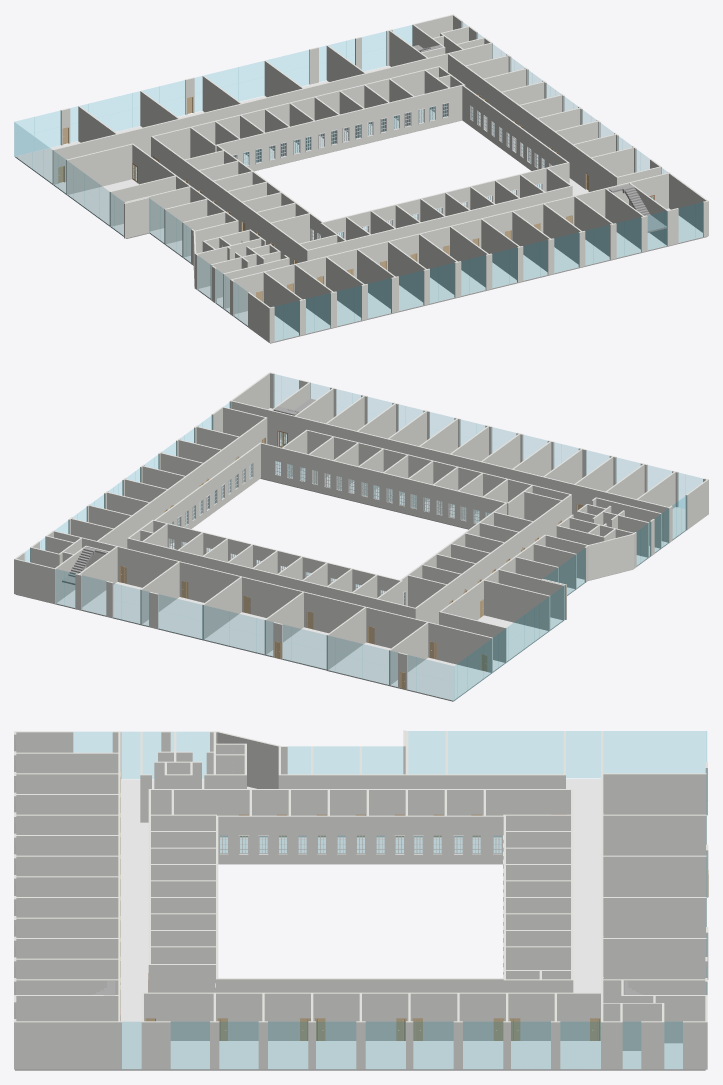
File: 4L墙体.gltf
3 renders of one model, top to bottom at view 1: azimuth 30°, elevation 25°; view 2: azimuth 150°, elevation 25°; view 3: azimuth 270°, elevation 25°, orthographic. The views are drawn at different scales.
Visible parts, largest first — view 1: 常规 - 200mm [733617], 常规 - 200mm [476818], 常规 - 200mm [466333], 常规 140 - 20+120 [759509], 常规 - 200mm [484412], 常规 - 200mm [487103], 常规 - 200mm [484968], 常规 140 - 20+120 [762532], 常规 - 200mm [485400], 常规 - 200mm [733270], 常规 - 200mm [732928], 常规 - 200mm [470344] (+46 smaller); view 2: 常规 - 200mm [466333], 常规 - 200mm [732928], 常规 140 - 20+120 [760655], 常规 140 - 20+120 [759509], 常规 - 200mm [476818], 常规 - 200mm [484968], 常规 - 200mm [487103], 常规 - 200mm [484412], 常规 - 200mm [485400], 常规 - 200mm [733617], 常规 - 200mm [733270], 常规 - 200mm [493552] (+46 smaller); view 3: 常规 - 200mm [487103], 常规 - 200mm [732215], 常规 - 200mm [484968], 常规 140 - 20+120 [761496], 常规 140 - 20+120 [760655], 常规 140 - 20+120 [759509], 常规 - 200mm [750346], 常规 - 200mm [474949], 常规 - 200mm [494692], 常规 - 200mm [494536], 常规 140 - 20+120 [762532], 常规 - 200mm [495010] (+53 smaller).
Boxes of the visible parts, box(x1,y1,x2,y2) form: 常规 - 200mm [733617]: box(217, 85, 462, 170); 常规 - 200mm [476818]: box(232, 172, 668, 313); 常规 - 200mm [466333]: box(52, 43, 491, 184); 常规 140 - 20+120 [759509]: box(15, 126, 396, 343); 常规 - 200mm [484412]: box(151, 66, 438, 161); 常规 - 200mm [487103]: box(448, 53, 617, 191); 常规 - 200mm [484968]: box(152, 136, 308, 264); 常规 140 - 20+120 [762532]: box(396, 232, 643, 312); 常规 - 200mm [485400]: box(308, 185, 572, 260); 常规 - 200mm [733270]: box(462, 85, 567, 170); 常规 - 200mm [732928]: box(323, 162, 569, 239); 常规 - 200mm [470344]: box(66, 144, 132, 194); 常规 - 200mm [466333]: box(54, 531, 492, 672); 常规 - 200mm [732928]: box(260, 442, 505, 528); 常规 140 - 20+120 [760655]: box(16, 582, 328, 670); 常规 140 - 20+120 [759509]: box(326, 507, 686, 701); 常规 - 200mm [476818]: box(231, 400, 668, 542); 常规 - 200mm [484968]: box(415, 494, 571, 624); 常规 - 200mm [487103]: box(97, 418, 266, 548); 常规 - 200mm [484412]: box(128, 538, 416, 618); 常规 - 200mm [485400]: box(306, 429, 569, 501); 常规 - 200mm [733617]: box(155, 520, 400, 597); 常规 - 200mm [733270]: box(155, 443, 260, 544); 常规 - 200mm [493552]: box(484, 580, 550, 631); 常规 - 200mm [487103]: box(144, 992, 600, 1040); 常规 - 200mm [732215]: box(216, 815, 503, 863); 常规 - 200mm [484968]: box(148, 789, 570, 837); 常规 140 - 20+120 [761496]: box(15, 1026, 505, 1070); 常规 140 - 20+120 [760655]: box(506, 863, 705, 1070); 常规 140 - 20+120 [759509]: box(121, 779, 600, 864); 常规 - 200mm [750346]: box(16, 1021, 121, 1069); 常规 - 200mm [474949]: box(603, 773, 706, 814); 常规 - 200mm [494692]: box(603, 855, 706, 896); 常规 - 200mm [494536]: box(603, 814, 706, 855); 常规 140 - 20+120 [762532]: box(121, 863, 148, 1026); 常规 - 200mm [495010]: box(603, 938, 706, 979).
Size of the model in its own units: 59.6 by 4.64 by 59.9.
